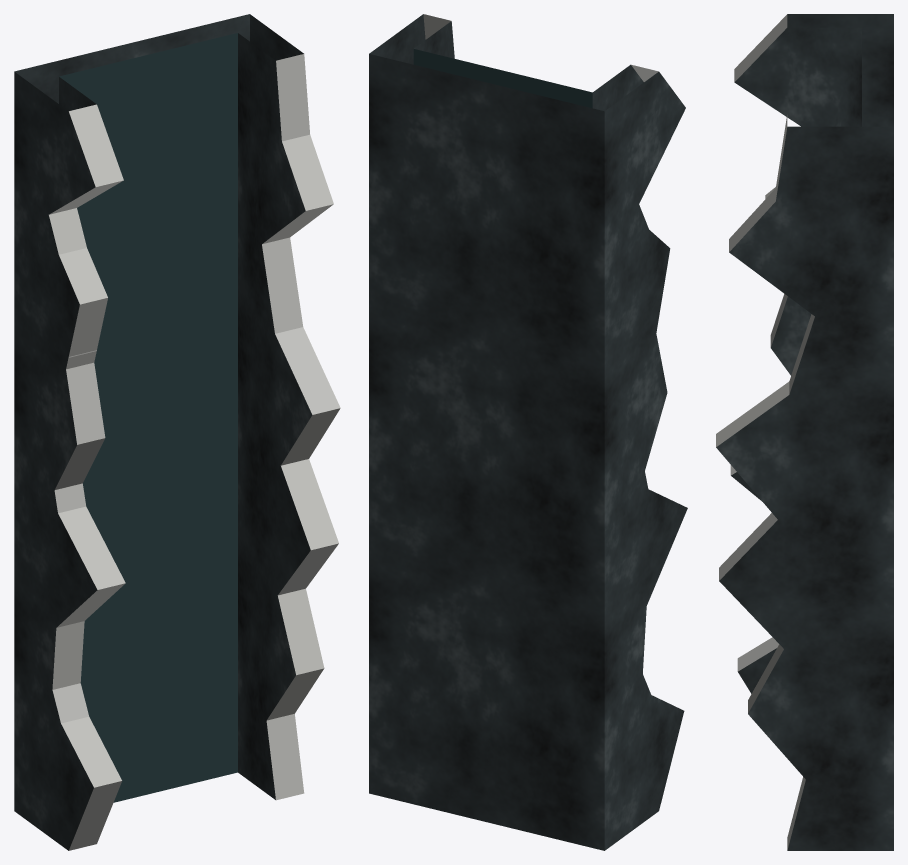
File: OT_048_054_broken_wall_vert_back_deco.glb
The picture shows the model from 3 angles, left to right: view 1: azimuth 30°, elevation 25°; view 2: azimuth 150°, elevation 25°; view 3: azimuth 270°, elevation 25°; orthographic projection. The views are drawn at different scales.
Parts seen in each view (by area): view 1: broken_wall; view 2: broken_wall; view 3: broken_wall.
Boxes of the visible parts, x1,y1,x2,y2 form: broken_wall: (14, 14, 340, 850); broken_wall: (369, 14, 687, 850); broken_wall: (716, 14, 893, 850).
Bounding box in the file's own units: 0.75 × 2.25 × 0.5008.
Materials: 3 (1 with a texture image).
